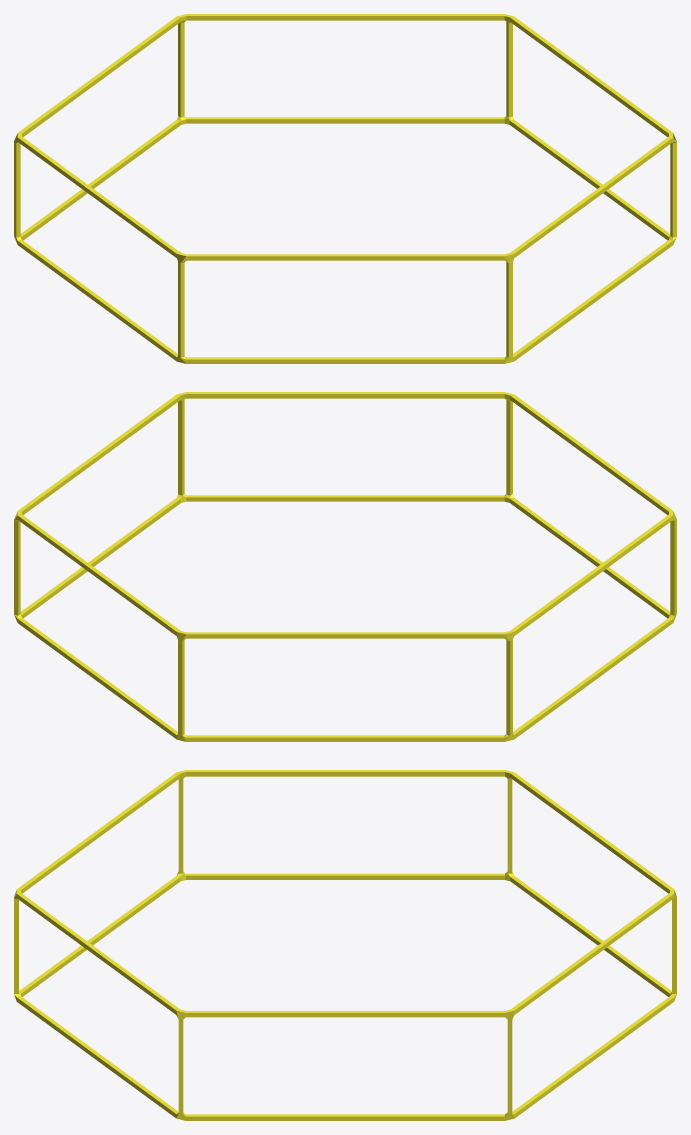
File: SelectionYellow.fbx
3 views of the same model, one above another, from view 1: azimuth 30°, elevation 25°; view 2: azimuth 150°, elevation 25°; view 3: azimuth 270°, elevation 25° (orthographic).
Visible parts, largest first — view 1: SelectionYellow; view 2: SelectionYellow; view 3: SelectionYellow.
Boxes of the visible parts, left/top/right/bottom form: SelectionYellow: left=14, top=14, right=676, bottom=363; SelectionYellow: left=14, top=392, right=676, bottom=741; SelectionYellow: left=14, top=770, right=676, bottom=1120.
Size of the model in its own units: 1.01 by 0.209 by 1.16.
